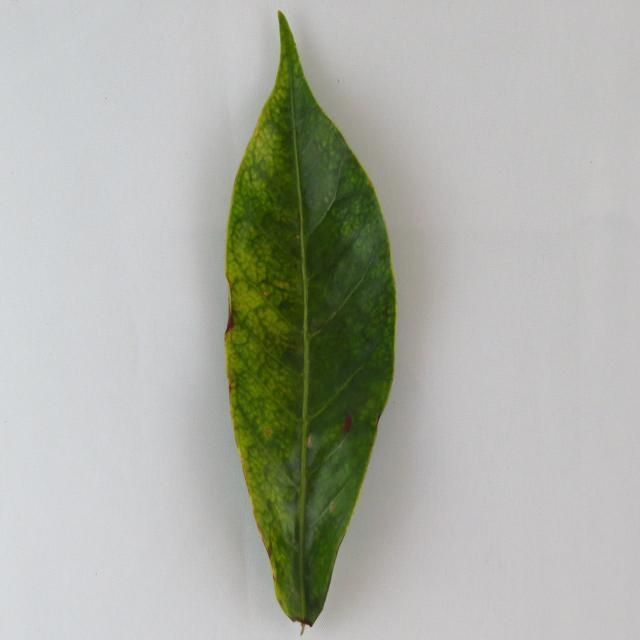DeficienciaNutricional-Manganeso: (225, 13, 396, 627)
